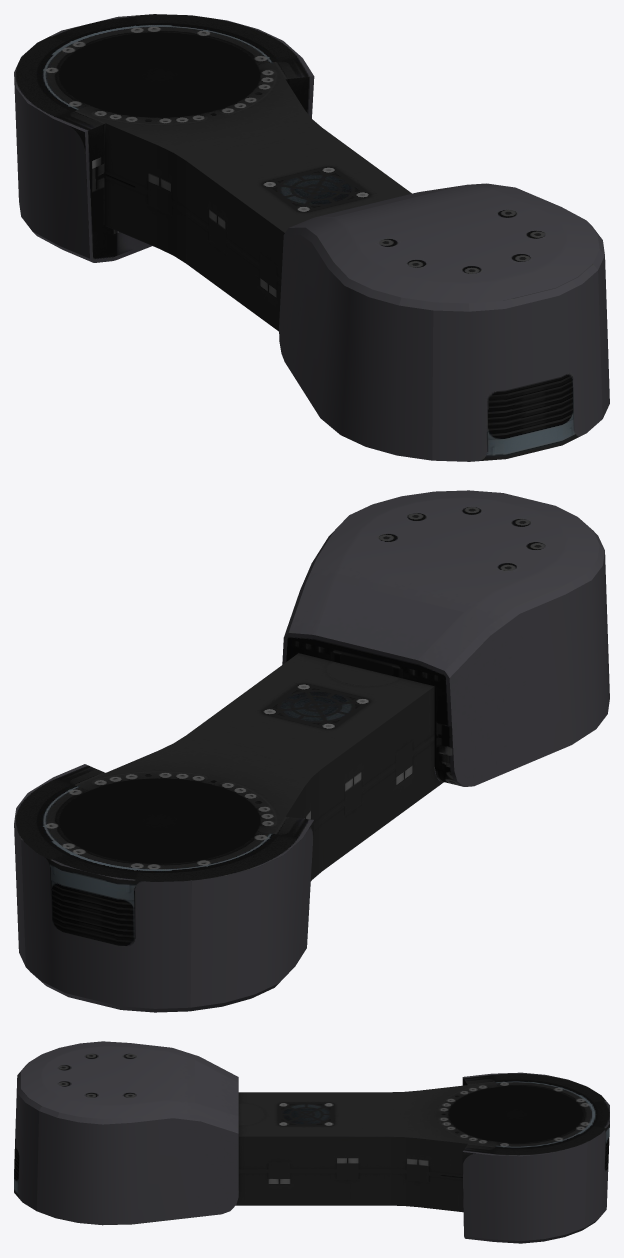
Rendered from thigh.obj.
The picture shows the model from 3 angles, top to bottom: view 1: azimuth 30°, elevation 25°; view 2: azimuth 150°, elevation 25°; view 3: azimuth 270°, elevation 25°; orthographic projection. The views are drawn at different scales.
Bounding box in the file's own units: 0.1391 × 0.1035 × 0.4193.
